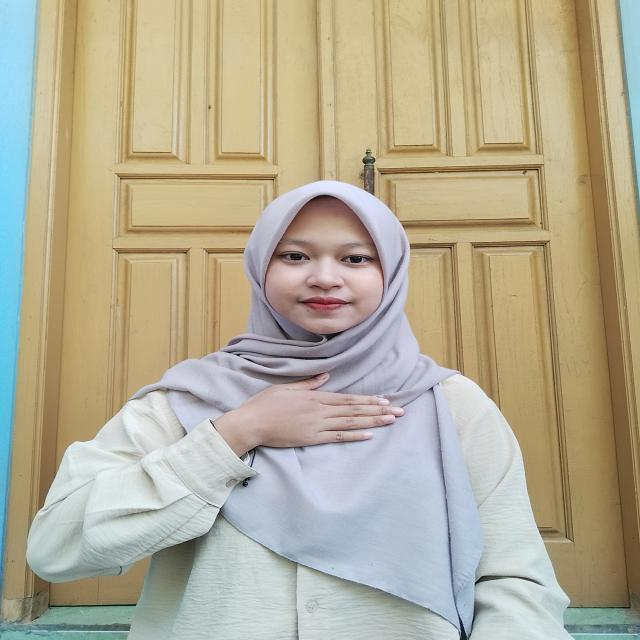tolong: (175, 368, 421, 468)
